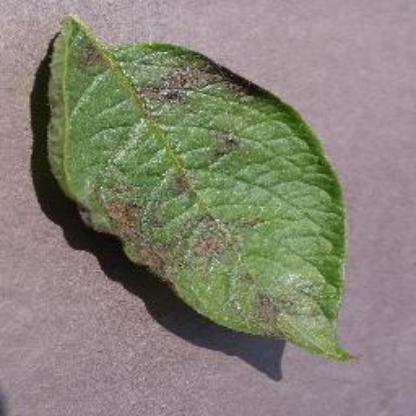Late-Blight: (16, 16, 390, 372)
